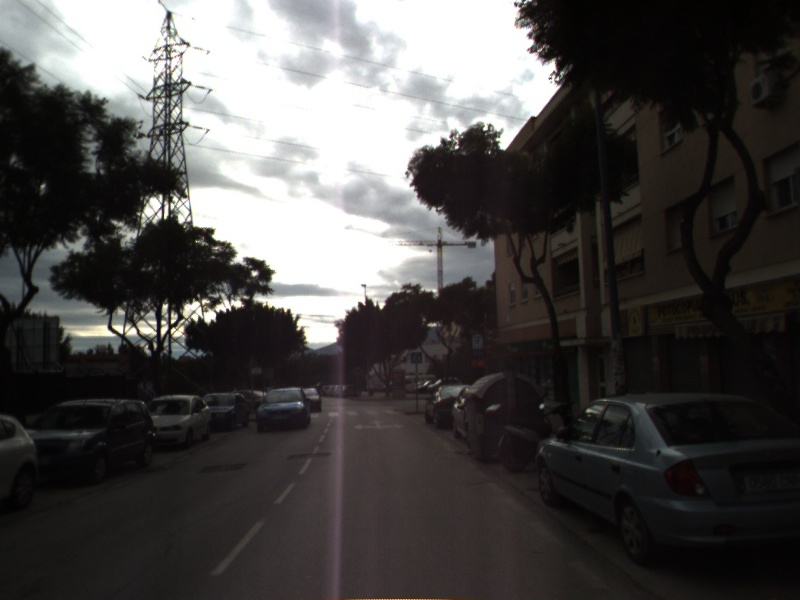STRAIGHT_LEFT_RIGHT: (351, 417, 407, 432)
